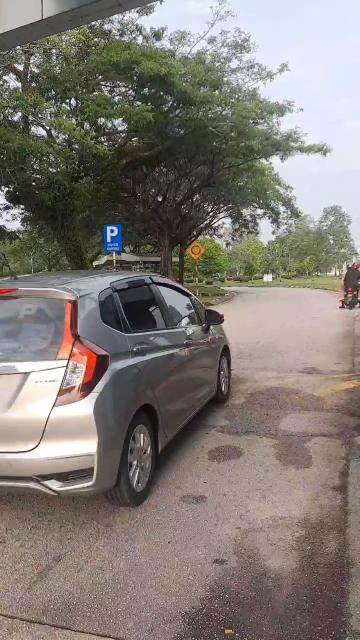car: (1, 262, 251, 515)
